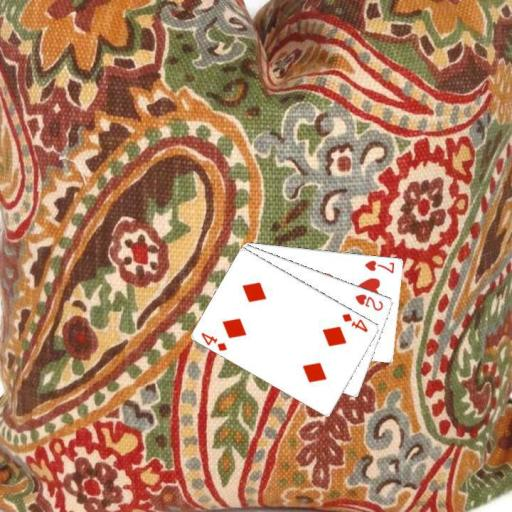2H: (352, 291, 385, 312)
4D: (339, 310, 370, 334), (198, 329, 229, 353)
7H: (361, 257, 396, 275)
